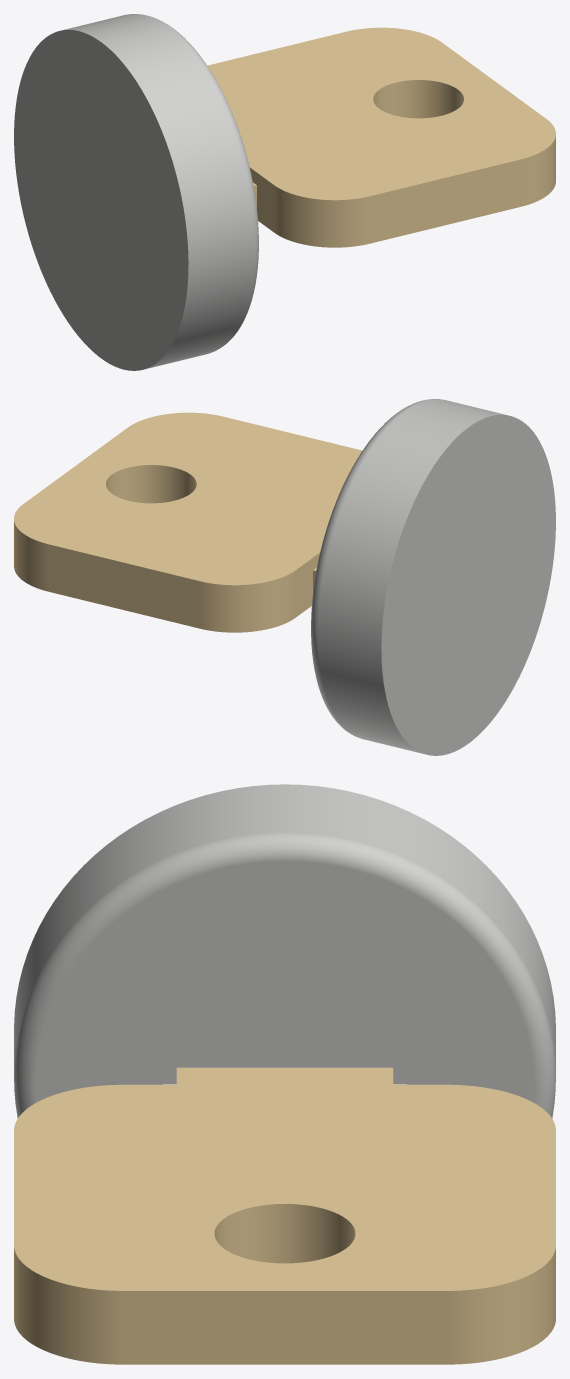
File: Cell01__Stations__H4_Quarantine__Controls__KeySwitch__KeyCylinder.glb
3 renders of one model, top to bottom at view 1: azimuth 30°, elevation 25°; view 2: azimuth 150°, elevation 25°; view 3: azimuth 270°, elevation 25°, orthographic. The views are drawn at different scales.
Visible parts, largest first — view 1: /World/Cell01/Stations/H4_Quarantine/Controls/KeySwitch/KeyC (×2); view 2: /World/Cell01/Stations/H4_Quarantine/Controls/KeySwitch/KeyC (×2); view 3: /World/Cell01/Stations/H4_Quarantine/Controls/KeySwitch/KeyC (×2).
Part boxes in pixels (left/top/right/bottom): /World/Cell01/Stations/H4_Quarantine/Controls/KeySwitch/KeyC (×2): left=14, top=14, right=555, bottom=370; /World/Cell01/Stations/H4_Quarantine/Controls/KeySwitch/KeyC (×2): left=14, top=399, right=555, bottom=755; /World/Cell01/Stations/H4_Quarantine/Controls/KeySwitch/KeyC (×2): left=14, top=784, right=555, bottom=1364.
Size of the model in its own units: 0.026 by 0.02 by 0.02.
